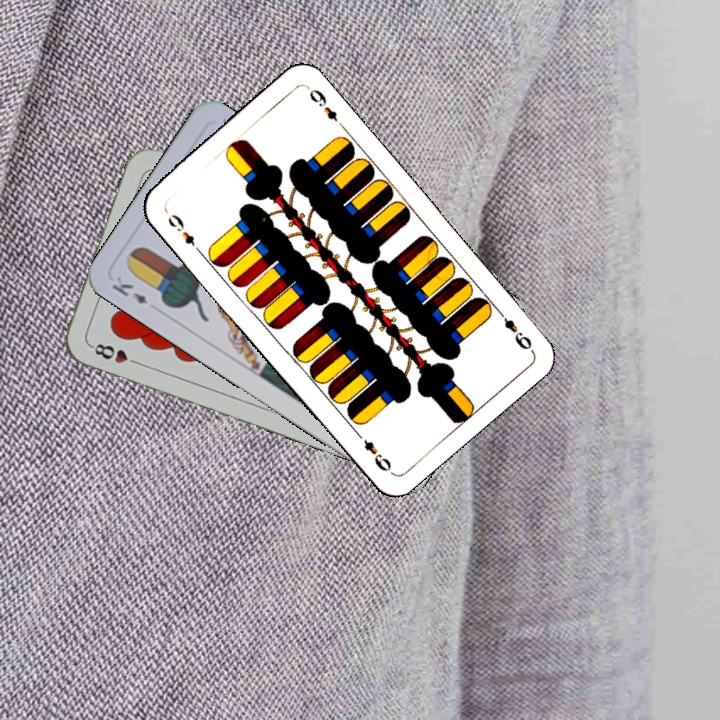E9: (492, 304, 535, 353), (163, 210, 203, 255)
EK: (108, 272, 150, 307)
H8: (86, 339, 144, 368)
